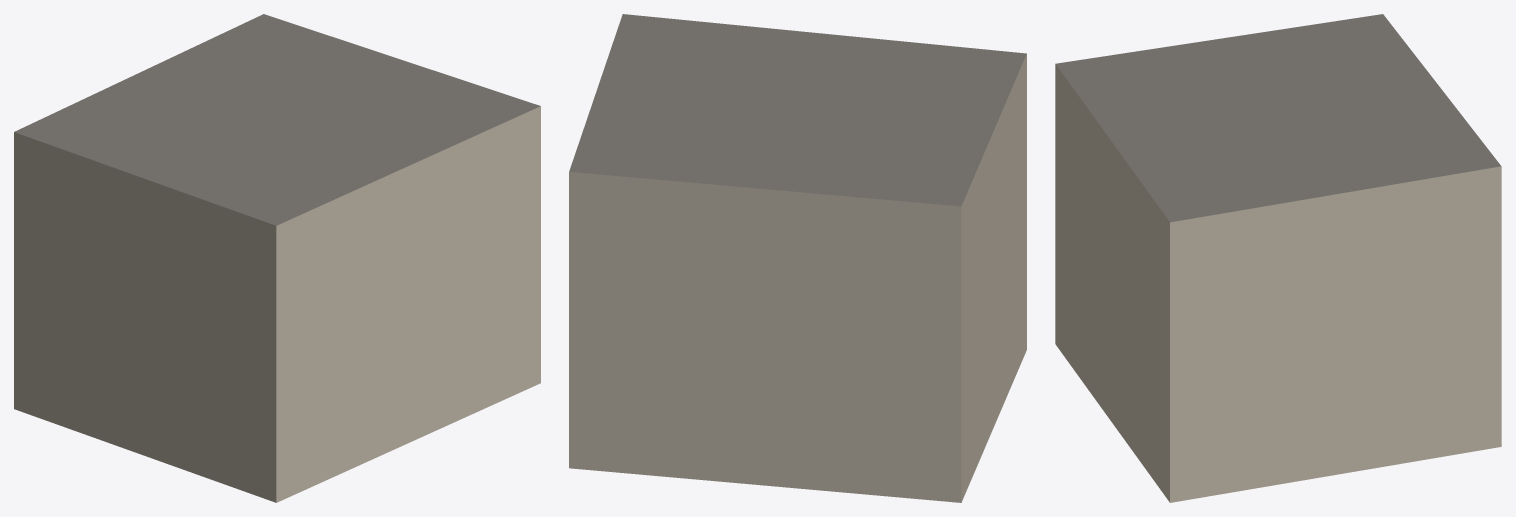
3 views of the same model, side by side, from view 1: azimuth 30°, elevation 25°; view 2: azimuth 150°, elevation 25°; view 3: azimuth 270°, elevation 25° (orthographic). The views are drawn at different scales.
Visible parts, largest first — view 1: HP-w1197031942; view 2: HP-w1197031942; view 3: HP-w1197031942.
Boxes of the visible parts, x1,y1,x2,y2 form: HP-w1197031942: (14, 14, 540, 502); HP-w1197031942: (569, 14, 1026, 502); HP-w1197031942: (1055, 14, 1501, 502).
Bounding box in the file's own units: 28.67 × 18 × 25.93.
